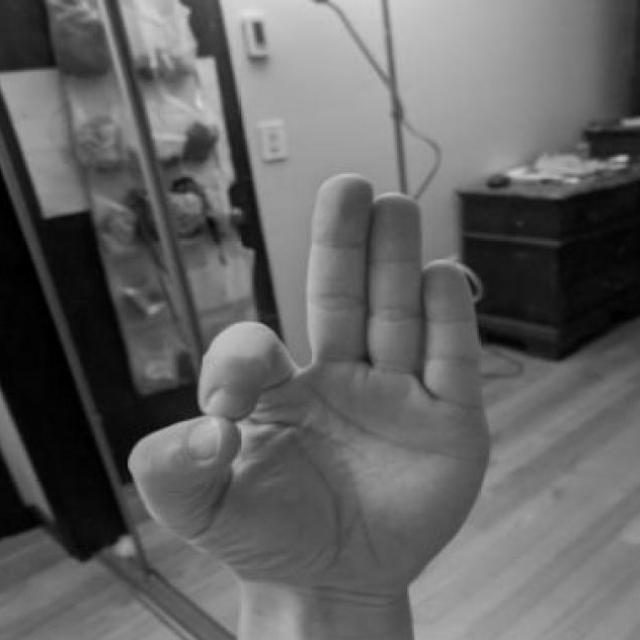F: (119, 164, 513, 620)
